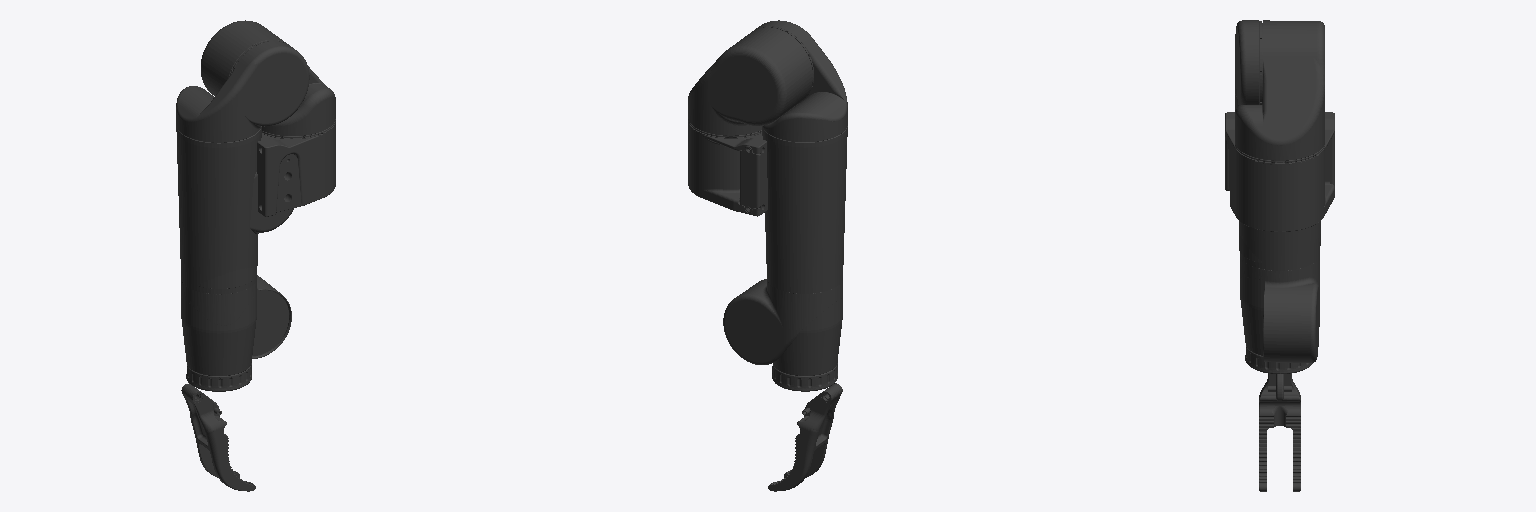
The robot description file, URDF, robot "bravo_7_example":
<?xml version="1.0" encoding="utf-8"?>
<!-- =================================================================================== -->
<!-- |    This document was autogenerated by xacro from bravo_7_example.urdf.xacro     | -->
<!-- |    EDITING THIS FILE BY HAND IS NOT RECOMMENDED                                 | -->
<!-- =================================================================================== -->
<robot name="bravo_7_example">
  <link name="base_link"/>
  <joint name="bravo_joint" type="fixed">
    <origin rpy="0 0 0" xyz="0 0 0"/>
    <parent link="base_link"/>
    <child link="bravo_base_link"/>
    <origin rpy="0 0 0" xyz="0 0 0"/>
  </joint>
  <material name="bravo_black">
    <color rgba="0.3 0.3 0.3 1"/>
  </material>
  <link name="bravo_base_link">
    <visual>
      <geometry>
        <mesh filename="package://bpl_bravo_description/meshes/RS2-1019_base.stl"/>
      </geometry>
      <material name="bravo_black"/>
    </visual>
    <collision>
      <geometry>
        <box size="0.0725 0.1112 0.083"/>
      </geometry>
      <origin rpy="0 0 0" xyz="0.03625 00 0.0415"/>
    </collision>
    <collision>
      <geometry>
        <box size="0.050 0.080 0.060"/>
      </geometry>
      <origin rpy="0 0 0" xyz="0.025 -0.04556 0.03"/>
    </collision>
    <collision>
      <geometry>
        <cylinder length="0.083" radius="0.046"/>
      </geometry>
      <origin rpy="0 0 0" xyz="0.0665 0 0.0415"/>
    </collision>
  </link>
  <joint name="bravo_axis_g" type="revolute">
    <parent link="bravo_base_link"/>
    <origin rpy="0 0 3.14159" xyz="0.0665 0 0.08"/>
    <axis xyz="0 0 -1"/>
    <child link="bravo_1019_end_link"/>
    <limit effort="0" lower="0.0" upper="6.3" velocity="0"/>
  </joint>
  <link name="bravo_1019_end_link">
    <visual>
      <geometry>
        <mesh filename="package://bpl_bravo_description/meshes/RS2-1019_end.stl"/>
      </geometry>
      <material name="bravo_black"/>
    </visual>
  </link>
  <joint name="bravo_f_base_joint" type="fixed">
    <parent link="bravo_1019_end_link"/>
    <origin rpy="0 0 0" xyz="0 0 0"/>
    <child link="bravo_1013_base_link"/>
  </joint>
  <link name="bravo_1013_base_link">
    <visual>
      <geometry>
        <mesh filename="package://bpl_bravo_description/meshes/RS2-1013_base.stl"/>
      </geometry>
      <material name="bravo_black"/>
    </visual>
    <collision>
      <geometry>
        <cylinder length="0.030" radius="0.046"/>
      </geometry>
      <origin rpy="0 0 0" xyz="0.0 00 0.015"/>
    </collision>
    <collision>
      <geometry>
        <cylinder length="0.1" radius="0.046"/>
      </geometry>
      <origin rpy="1.5707 0 0 " xyz="0.048 00 0.0642"/>
    </collision>
  </link>
  <joint name="bravo_axis_f" type="revolute">
    <parent link="bravo_1013_base_link"/>
    <origin rpy="0 0 0" xyz="0.046 0 0.0642"/>
    <axis xyz="0 -1 0"/>
    <child link="bravo_1013_joint_link"/>
    <limit effort="0" lower="0.0" upper="3.2" velocity="0"/>
  </joint>
  <link name="bravo_1013_joint_link">
    <visual>
      <geometry>
        <mesh filename="package://bpl_bravo_description/meshes/RS2-1013_end.stl"/>
      </geometry>
      <material name="bravo_black"/>
    </visual>
    <collision>
      <geometry>
        <cylinder length="0.03" radius="0.046"/>
      </geometry>
      <origin rpy="0 0 0" xyz="0.046 0 -0.03555"/>
    </collision>
  </link>
  <joint name="bravo_1013_end_joint" type="fixed">
    <parent link="bravo_1013_joint_link"/>
    <origin rpy="3.14159 0 3.14159" xyz="0.046 0 -0.05055"/>
    <child link="bravo_1013_end_link"/>
  </joint>
  <link name="bravo_1013_end_link"/>
  <joint name="bravo_e_base_joint" type="fixed">
    <parent link="bravo_1013_end_link"/>
    <origin rpy="0 0 0" xyz="0 0 0.182"/>
    <child link="bravo_1026_0_base_link"/>
  </joint>
  <link name="bravo_1026_0_base_link">
    <visual>
      <geometry>
        <mesh filename="package://bpl_bravo_description/meshes/RS2-1026_0_base.stl"/>
      </geometry>
      <material name="bravo_black"/>
    </visual>
    <collision>
      <geometry>
        <cylinder length="0.03" radius="0.0408"/>
      </geometry>
      <origin rpy="0 0 0" xyz="0 00 0.015"/>
    </collision>
    <collision>
      <geometry>
        <cylinder length="0.0816" radius="0.0408"/>
      </geometry>
      <origin rpy="1.5707 0 0" xyz="0.0408 00 0.0578"/>
    </collision>
  </link>
  <joint name="bravo_axis_e" type="revolute">
    <parent link="bravo_1026_0_base_link"/>
    <origin rpy="0 0 0" xyz="0.042 0 0.0578"/>
    <axis xyz="0 -1 0"/>
    <child link="bravo_1026_0_joint_link"/>
    <limit effort="0" lower="0.0" upper="3.2" velocity="0"/>
  </joint>
  <link name="bravo_1026_0_joint_link">
    <visual>
      <geometry>
        <mesh filename="package://bpl_bravo_description/meshes/RS2-1026_0_end.stl"/>
      </geometry>
      <material name="bravo_black"/>
    </visual>
    <collision>
      <geometry>
        <cylinder length="0.080" radius="0.0408"/>
      </geometry>
      <origin rpy="0 0 0" xyz="0.0408 0 -0.05385"/>
    </collision>
  </link>
  <joint name="bravo_1026_0_end_joint" type="fixed">
    <parent link="bravo_1026_0_joint_link"/>
    <origin rpy="3.14159 0 0" xyz="0.0408 0 -0.09385"/>
    <child link="bravo_1026_0_end_link"/>
  </joint>
  <link name="bravo_1026_0_end_link"/>
  <joint name="bravo_d_base_joint" type="fixed">
    <parent link="bravo_1026_0_end_link"/>
    <origin rpy="0 0 0" xyz="0 0 0"/>
    <child link="bravo_1026_1_base_link"/>
  </joint>
  <link name="bravo_1026_1_base_link">
        </link>
  <joint name="bravo_axis_d" type="revolute">
    <parent link="bravo_1026_1_base_link"/>
    <origin rpy="0 0 0" xyz="0 0 0.0005"/>
    <axis xyz="0 0 -1"/>
    <child link="bravo_1026_1_joint_link"/>
    <limit effort="0" lower="0" upper="6.2" velocity="0"/>
  </joint>
  <link name="bravo_1026_1_joint_link">
    <visual>
      <geometry>
        <mesh filename="package://bpl_bravo_description/meshes/RS2-1026_1_end.stl"/>
      </geometry>
      <material name="bravo_black"/>
      <origin rpy="0 0 3.14159" xyz="0 0 0 "/>
    </visual>
    <collision>
      <geometry>
        <cylinder length="0.0056" radius="0.0408"/>
      </geometry>
      <origin rpy="0 0 3.14159" xyz="0 0 0.0028"/>
    </collision>
  </link>
  <joint name="bravo_1026_1_end_joint" type="fixed">
    <parent link="bravo_1026_1_joint_link"/>
    <origin rpy="0 0 3.14159" xyz="0 0 0.0056"/>
    <child link="bravo_1026_1_end_link"/>
  </joint>
  <link name="bravo_1026_1_end_link"/>
  <joint name="bravo_c_base_joint" type="fixed">
    <parent link="bravo_1026_1_end_link"/>
    <origin rpy="0 0 0" xyz="0 0 0.0"/>
    <child link="bravo_1023_0_base_link"/>
  </joint>
  <link name="bravo_1023_0_base_link">
    <visual>
      <geometry>
        <mesh filename="package://bpl_bravo_description/meshes/RS2-1023_0_base.stl"/>
      </geometry>
      <material name="bravo_black"/>
    </visual>
    <collision>
      <geometry>
        <cylinder length="0.03" radius="0.0408"/>
      </geometry>
      <origin rpy="0 0 0" xyz="0 00 0.015"/>
    </collision>
    <collision>
      <geometry>
        <cylinder length="0.0816" radius="0.0408"/>
      </geometry>
      <origin rpy="1.5707 0 0" xyz="0.0408 00 0.0578"/>
    </collision>
  </link>
  <joint name="bravo_axis_c" type="revolute">
    <parent link="bravo_1023_0_base_link"/>
    <origin rpy="0 0 0" xyz="0.042 0 0.0578"/>
    <axis xyz="0 -1 0"/>
    <child link="bravo_1023_0_joint_link"/>
    <limit effort="0" lower="0.0" upper="3.2" velocity="0"/>
  </joint>
  <link name="bravo_1023_0_joint_link">
    <visual>
      <geometry>
        <mesh filename="package://bpl_bravo_description/meshes/RS2-1023_0_end.stl"/>
      </geometry>
      <material name="bravo_black"/>
    </visual>
    <collision>
      <geometry>
        <cylinder length="0.080" radius="0.0408"/>
      </geometry>
      <origin rpy="0 0 0" xyz="0.0408 0 -0.05385"/>
    </collision>
  </link>
  <joint name="bravo_1023_0_end_joint" type="fixed">
    <parent link="bravo_1023_0_joint_link"/>
    <origin rpy="3.14159 0 0" xyz="0.0408 0 -0.09385"/>
    <child link="bravo_1023_0_end_link"/>
  </joint>
  <link name="bravo_1023_0_end_link"/>
  <joint name="bravo_b_base_joint" type="fixed">
    <parent link="bravo_1023_0_end_link"/>
    <origin rpy="0 0 0" xyz="0 0 0"/>
    <child link="bravo_1023_1_base_link"/>
  </joint>
  <link name="bravo_1023_1_base_link">
        </link>
  <joint name="bravo_axis_b" type="continuous">
    <parent link="bravo_1023_1_base_link"/>
    <origin rpy="0 0 0" xyz="0 0 0.0005"/>
    <axis xyz="0 0 -1"/>
    <child link="bravo_1023_1_joint_link"/>
    <!--            <limit effort="0" velocity="0" lower="0.0" upper="0.0" />-->
  </joint>
  <link name="bravo_1023_1_joint_link">
    <visual>
      <geometry>
        <mesh filename="package://bpl_bravo_description/meshes/RS2-1023_1_end.stl"/>
      </geometry>
      <material name="bravo_black"/>
    </visual>
    <collision>
      <geometry>
        <cylinder length="0.0056" radius="0.0408"/>
      </geometry>
      <origin rpy="0 0 0" xyz="0 0 0.0028"/>
    </collision>
  </link>
  <joint name="bravo_1023_1_end_joint" type="fixed">
    <parent link="bravo_1023_1_joint_link"/>
    <origin rpy="0 0 0" xyz="0 0 0.0056"/>
    <child link="bravo_1023_1_end_link"/>
  </joint>
  <link name="bravo_1023_1_end_link"/>
  <joint name="bravo_a_base_joint" type="fixed">
    <parent link="bravo_1023_1_end_link"/>
    <origin rpy="0 0 0" xyz="0 0 0"/>
    <child link="bravo_1028_base_link"/>
  </joint>
  <link name="bravo_1028_base_link">
    <visual>
      <geometry>
        <mesh filename="package://bpl_bravo_description/meshes/RS2-1028.stl"/>
      </geometry>
      <material name="bravo_black"/>
    </visual>
    <collision>
      <geometry>
        <cylinder length="0.120" radius="0.0408"/>
      </geometry>
      <origin rpy="0 0 0" xyz="0 0 0.06"/>
    </collision>
  </link>
  <joint name="bravo_1028_end_joint" type="fixed">
    <parent link="bravo_1028_base_link"/>
    <origin rpy="-1.5707 -1.5707 0" xyz="0 0 0.120"/>
    <child link="bravo_1028_end_link"/>
  </joint>
  <link name="bravo_1028_end_link"/>
  <joint name="bravo_jaws_joint" type="fixed">
    <origin rpy="0 0 0" xyz=" 0 0 0.0"/>
    <parent link="bravo_1028_end_link"/>
    <child link="bravo_jaws_base_link"/>
  </joint>
  <link name="bravo_jaws_base_link">
    <!--        <visual>-->
    <!--            <geometry>-->
    <!--                <mesh filename="package://bpl_bravo_description/meshes/end_effectors/RS2-257.stl"/>-->
    <!--            </geometry>-->
    <!--            <material name="bravo_jaws_black"/>-->
    <!--            </visual>-->
  </link>
  <link name="bravo_push_rod"/>
  <joint name="bravo_axis_a" type="prismatic">
    <origin rpy="0 0 0" xyz="0 0 0.009"/>
    <parent link="bravo_jaws_base_link"/>
    <child link="bravo_push_rod"/>
    <axis xyz="0 0 1"/>
    <limit effort="10" lower="0" upper="0.035" velocity="10"/>
  </joint>
  <link name="bravo_1030_base_link">
    <visual>
      <geometry>
        <mesh filename="package://bpl_bravo_description/meshes/RS2-1030.stl"/>
      </geometry>
      <material name="bravo_black"/>
    </visual>
    <collision>
      <geometry>
        <cylinder length="0.03033333" radius="0.046"/>
      </geometry>
      <origin rpy="0 0 0" xyz="0 0 0.01516666"/>
    </collision>
    <collision>
      <geometry>
        <cylinder length="0.03033333" radius="0.045"/>
      </geometry>
      <origin rpy="0 0 0" xyz="0 0 0.0455"/>
    </collision>
    <collision>
      <geometry>
        <cylinder length="0.03033333" radius="0.044"/>
      </geometry>
      <origin rpy="0 0 0" xyz="0 0 0.075833333"/>
    </collision>
    <collision>
      <geometry>
        <cylinder length="0.03033333" radius="0.043"/>
      </geometry>
      <origin rpy="0 0 0" xyz="0 0 0.1061666666"/>
    </collision>
    <collision>
      <geometry>
        <cylinder length="0.03033333" radius="0.042"/>
      </geometry>
      <origin rpy="0 0 0" xyz="0 0 0.1365"/>
    </collision>
    <collision>
      <geometry>
        <cylinder length="0.03033333" radius="0.041"/>
      </geometry>
      <origin rpy="0 0 0" xyz="0 0 0.1668333"/>
    </collision>
  </link>
  <joint name="bravo_1030_base_joint" type="fixed">
    <parent link="bravo_1013_end_link"/>
    <child link="bravo_1030_base_link"/>
    <origin rpy="0 0 0" xyz="0 0 0"/>
  </joint>
  <material name="bravo_finger_jaws_black">
    <color rgba="0.3 0.3 0.3 1"/>
  </material>
  <joint name="bravo_finger_jaws_joint" type="fixed">
    <origin rpy="0 0 0" xyz="0 0 0"/>
    <parent link="bravo_jaws_base_link"/>
    <child link="bravo_finger_jaws_base_link"/>
    <origin rpy="0 0 0" xyz="0 0 0"/>
  </joint>
  <link name="bravo_finger_jaws_base_link">
    <visual>
      <geometry>
        <mesh filename="package://bpl_bravo_description/meshes/end_effectors/RS2-257.stl"/>
      </geometry>
      <material name="bravo_finger_jaws_black"/>
    </visual>
    <collision>
      <geometry>
        <cylinder length="0.02" radius="0.05"/>
      </geometry>
      <origin rpy="0 1.5707 0" xyz="0.01 0 0.00"/>
    </collision>
  </link>
  <link name="bravo_finger_jaws_rs2_300_link">
    <visual>
      <geometry>
        <mesh filename="package://bpl_bravo_description/meshes/end_effectors/RS2-300.stl"/>
      </geometry>
      <material name="bravo_finger_jaws_black"/>
    </visual>
    <collision>
      <geometry>
        <box size="0.14 0.04 0.045"/>
      </geometry>
      <origin rpy="0 0 0.35" xyz="0.07 0.025 0.00"/>
    </collision>
  </link>
  <joint name="bravo_finger_jaws_rs2_300_joint" type="revolute">
    <origin rpy="0 0 0" xyz="0.0097 -0.033 0"/>
    <parent link="bravo_finger_jaws_base_link"/>
    <child link="bravo_finger_jaws_rs2_300_link"/>
    <axis xyz="0 0 -1"/>
    <limit effort="10" lower="0" upper="1.0" velocity="10"/>
    <mimic joint="bravo_axis_a" multiplier="18" offset="0"/>
  </joint>
  <link name="bravo_finger_jaws_rs2_301_link">
    <visual>
      <geometry>
        <mesh filename="package://bpl_bravo_description/meshes/end_effectors/RS2-301.stl"/>
      </geometry>
      <material name="bravo_finger_jaws_black"/>
    </visual>
    <collision>
      <geometry>
        <box size="0.14 0.04 0.045"/>
      </geometry>
      <origin rpy="0 0 -0.35" xyz="0.07 -0.025 0.00"/>
    </collision>
  </link>
  <joint name="bravo_finger_jaws_rs2_301_joint" type="revolute">
    <origin rpy="0 0 0" xyz="0.0097 0.033 0"/>
    <parent link="bravo_finger_jaws_base_link"/>
    <child link="bravo_finger_jaws_rs2_301_link"/>
    <axis xyz="0 0 1"/>
    <limit effort="10" lower="0" upper="1.0" velocity="10"/>
    <mimic joint="bravo_finger_jaws_rs2_300_joint" multiplier="1" offset="0"/>
  </joint>
</robot>

--- Render facts (derived) ---
3 views of the same robot in one strip: view 1: azimuth 30°, elevation 25°; view 2: azimuth 150°, elevation 25°; view 3: azimuth 270°, elevation 25° (orthographic).
Model bravo_7_example with 26 links and 25 joints (7 revolute, 1 continuous, 1 prismatic, 16 fixed), rooted at base_link, posed every joint at zero.
Visible links, largest first — view 1: bravo_1030_base_link, bravo_1013_joint_link, bravo_1028_base_link, bravo_base_link, bravo_1013_base_link, bravo_1026_0_base_link, bravo_finger_jaws_rs2_301_link, bravo_1023_0_joint_link; view 2: bravo_1030_base_link, bravo_1013_base_link, bravo_base_link, bravo_1026_0_base_link, bravo_1013_joint_link, bravo_1028_base_link, bravo_finger_jaws_rs2_301_link; view 3: bravo_1013_base_link, bravo_base_link, bravo_1026_0_base_link, bravo_finger_jaws_rs2_301_link, bravo_1030_base_link, bravo_1028_base_link, bravo_1013_joint_link.
Link boxes in pixels (<box>): bravo_1030_base_link: <box>176,126,261,293</box>; bravo_1013_joint_link: <box>176,40,309,142</box>; bravo_1028_base_link: <box>181,281,256,391</box>; bravo_base_link: <box>257,123,335,216</box>; bravo_1013_base_link: <box>201,20,335,135</box>; bravo_1026_0_base_link: <box>181,275,291,358</box>; bravo_finger_jaws_rs2_301_link: <box>181,384,255,491</box>; bravo_1023_0_joint_link: <box>197,172,293,288</box>; bravo_1030_base_link: <box>762,126,847,293</box>; bravo_1013_base_link: <box>688,27,812,135</box>; bravo_base_link: <box>688,124,767,216</box>; bravo_1026_0_base_link: <box>723,279,841,364</box>; bravo_1013_joint_link: <box>755,20,847,141</box>; bravo_1028_base_link: <box>768,281,842,391</box>; bravo_finger_jaws_rs2_301_link: <box>768,383,842,491</box>; bravo_1013_base_link: <box>1235,20,1324,160</box>; bravo_base_link: <box>1225,112,1334,231</box>; bravo_1026_0_base_link: <box>1240,257,1319,362</box>; bravo_finger_jaws_rs2_301_link: <box>1259,373,1300,491</box>; bravo_1030_base_link: <box>1235,94,1320,270</box>; bravo_1028_base_link: <box>1240,257,1319,373</box>; bravo_1013_joint_link: <box>1235,20,1262,105</box>.
Bounding box of the posed robot: 0.184 × 0.1112 × 0.531 m (x, y, z).
10 mesh visuals loaded from 15 distinct referenced files (10 binary STL); not drawn: 5 (reference not matched to a file when rendering).